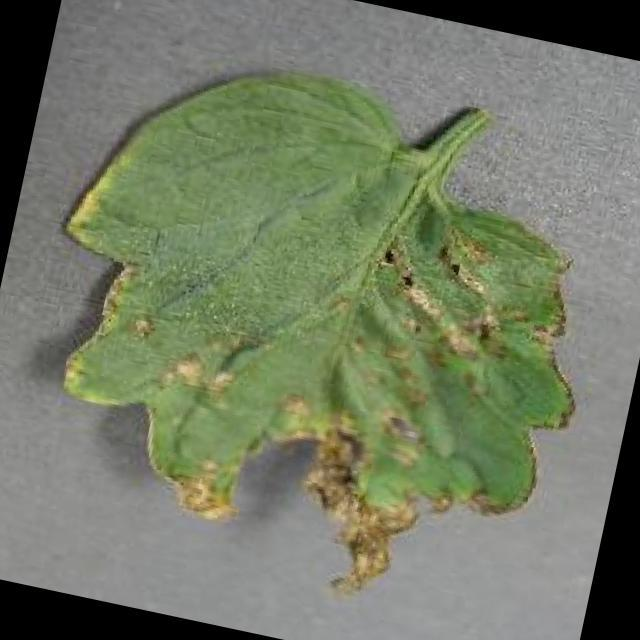Tomato bacterial spot leaf: (1, 24, 636, 640)
